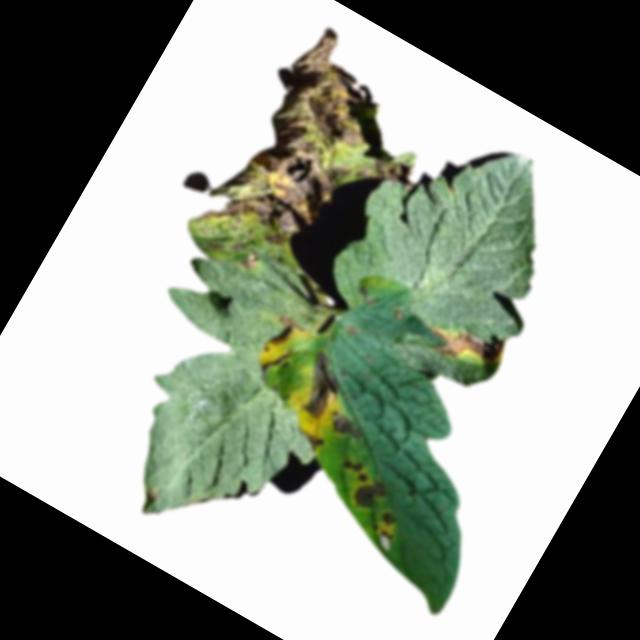Early_blight: (179, 14, 462, 328), (411, 297, 511, 383), (284, 348, 354, 426), (327, 451, 388, 510), (258, 307, 307, 360), (328, 408, 368, 445), (372, 506, 407, 543), (293, 425, 327, 455)
